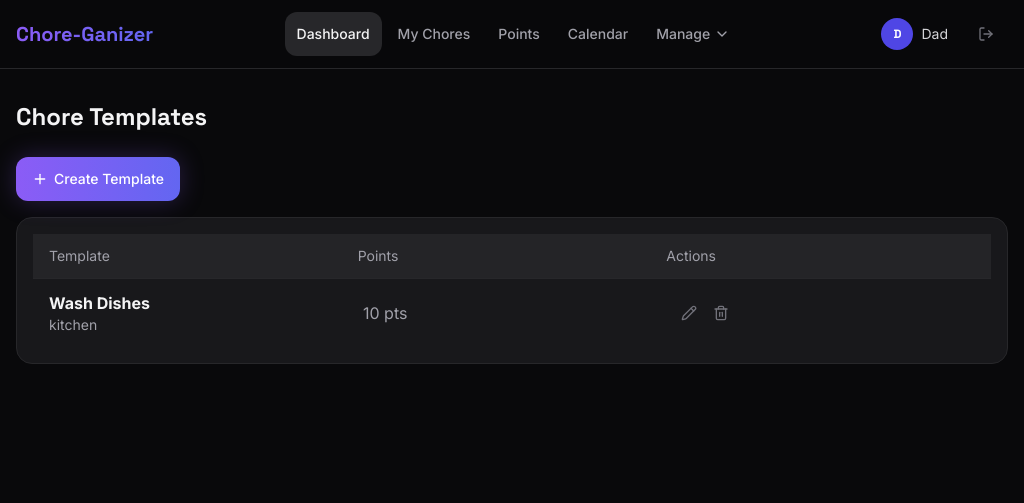
Test: TemplatesPage › shows delete confirmation when delete icon clicked
Click the button named "Delete template" at (721, 313), box [709,301,733,325]
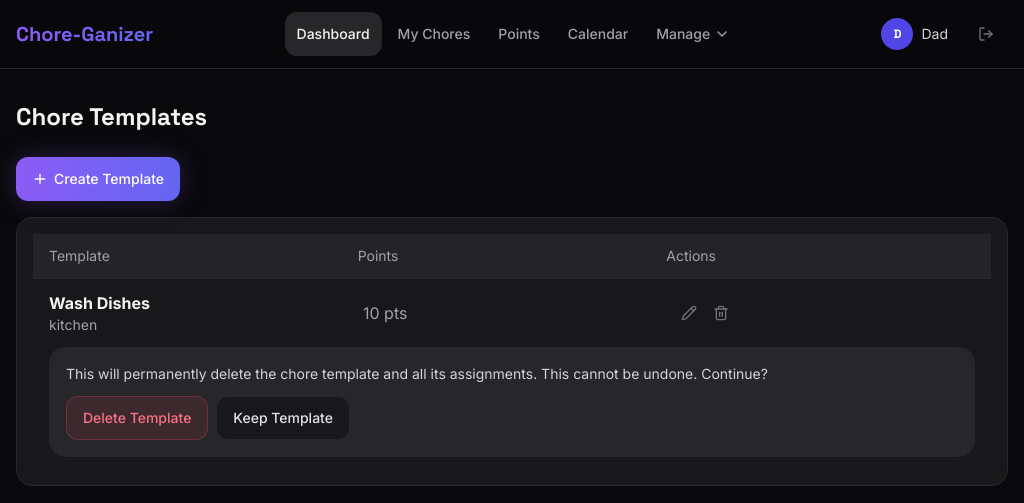
Now the button "Delete Template" is shown, box [66,396,208,440]
